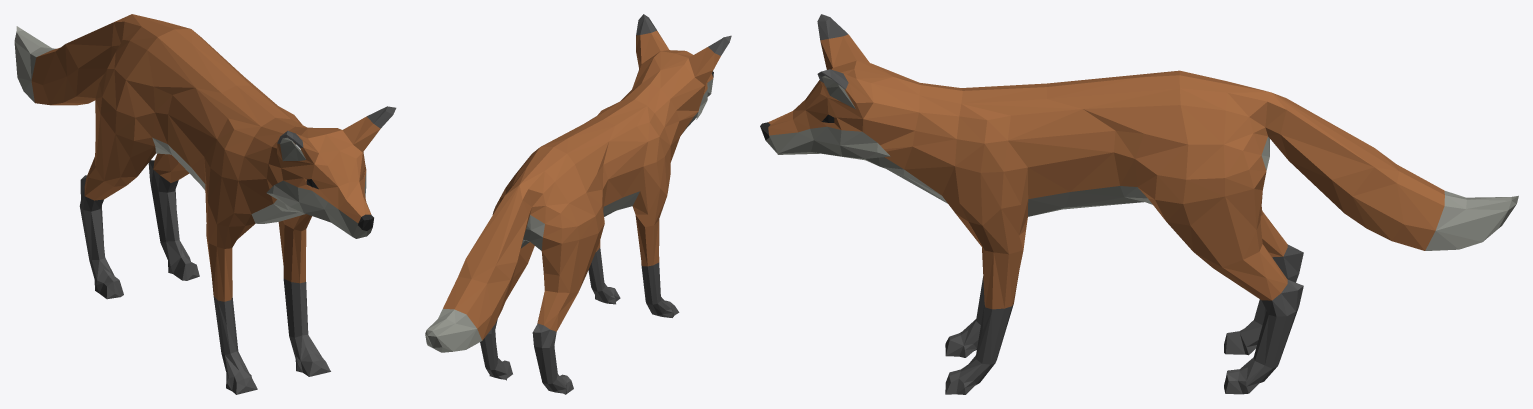
The model's file is fox.glb.
The picture shows the model from 3 angles, left to right: view 1: azimuth 30°, elevation 25°; view 2: azimuth 150°, elevation 25°; view 3: azimuth 270°, elevation 25°; orthographic projection. The views are drawn at different scales.
Parts seen in each view (by area): view 1: Fox_baked; view 2: Fox_baked; view 3: Fox_baked.
Part boxes in pixels (x1=…): Fox_baked: x1=14, y1=14, x2=396, y2=394; Fox_baked: x1=425, y1=14, x2=731, y2=394; Fox_baked: x1=760, y1=14, x2=1518, y2=394.
Size of the model in its own units: 1.05 by 2.67 by 5.6.
